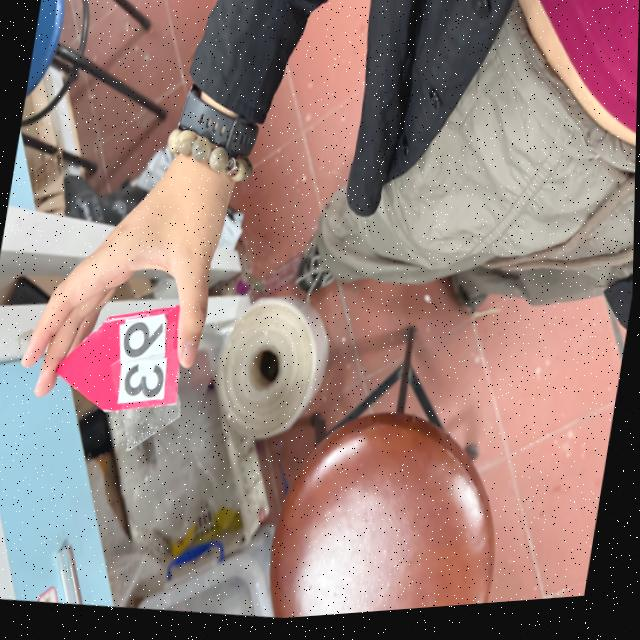board: (54, 305, 183, 416)
